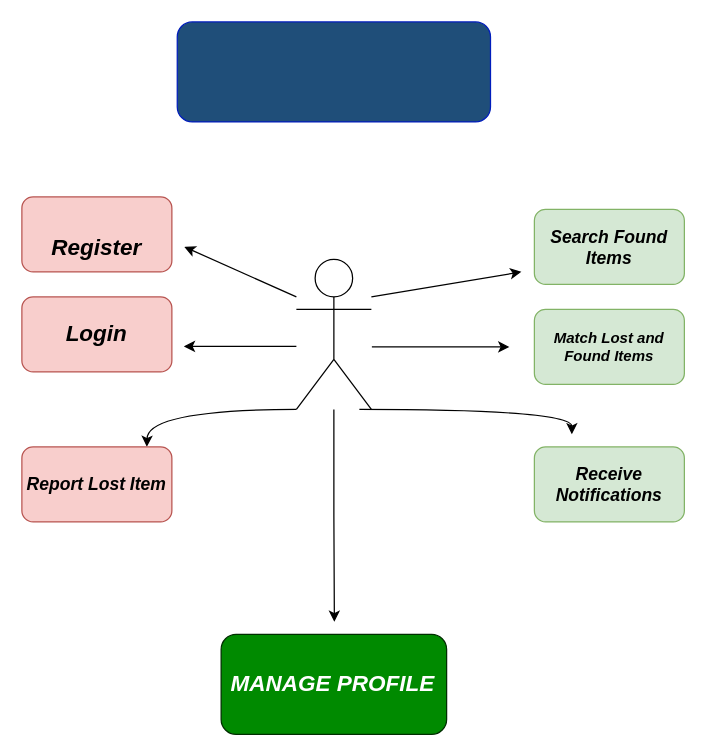
This 706x756 diagram has some shape labels left out. Here are the shapes that lost their labels. From the top down, the box of each, then its label:
(176, 21, 490, 122): FindIT
(295, 258, 371, 409): User
